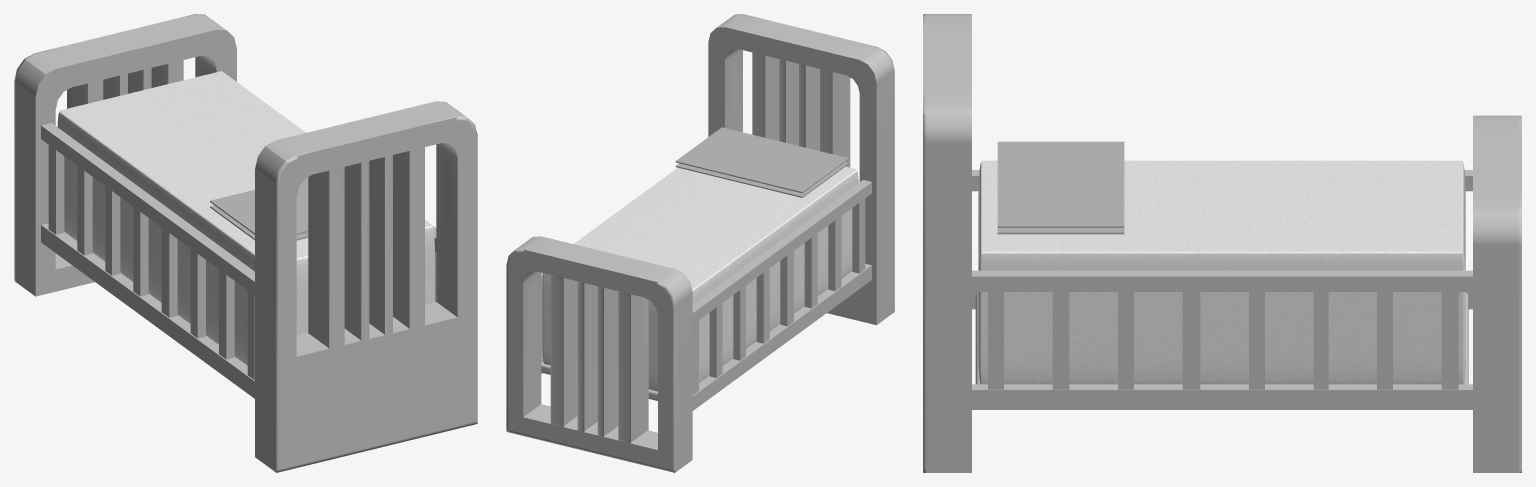
File: bed.fbx
3 views of the same model, side by side, from view 1: azimuth 30°, elevation 25°; view 2: azimuth 150°, elevation 25°; view 3: azimuth 270°, elevation 25° (orthographic). The views are drawn at different scales.
Parts seen in each view (by area): view 1: head, bedBox, side2, end, pillow1; view 2: end, head, bedBox, side2, pillow1; view 3: bedBox, side1, head, end, pillow1, bottom.
Boxes of the visible parts, x1,y1,x2,y2 form: head: [255, 101, 477, 472]; bedBox: [57, 71, 434, 365]; side2: [41, 123, 254, 398]; end: [14, 14, 236, 296]; pillow1: [210, 177, 308, 240]; end: [506, 236, 692, 472]; head: [708, 14, 894, 325]; bedBox: [542, 166, 858, 391]; side2: [692, 180, 871, 410]; pillow1: [675, 127, 848, 197]; bedBox: [978, 160, 1465, 384]; side1: [972, 270, 1472, 409]; head: [923, 14, 971, 472]; end: [1473, 115, 1521, 472]; pillow1: [997, 141, 1124, 234]; bottom: [975, 293, 1468, 384].
Bounding box in the file's own units: 0.9449 × 1.4 × 2.13.
